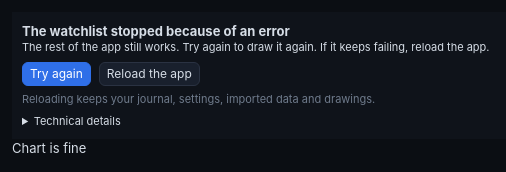
Scenario: error boundaries › show what failed in its place, while the rest stays on screen, and Try again draws it again
Expected: the element with class "area-watch" shows "The watchlist stopped because of an error", 22,23 -> 290,39
Expected: the element with class "area-watch" shows "The rest of the app still works.", 22,40 -> 490,54
Click the button "Try again". click: x=56, y=74
box: 22,62 -> 91,86
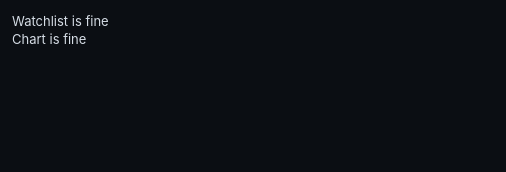
Result: the text "Watchlist is fine" is shown at 12,13 -> 109,29
Result: the text "stopped because of an error" is gone
